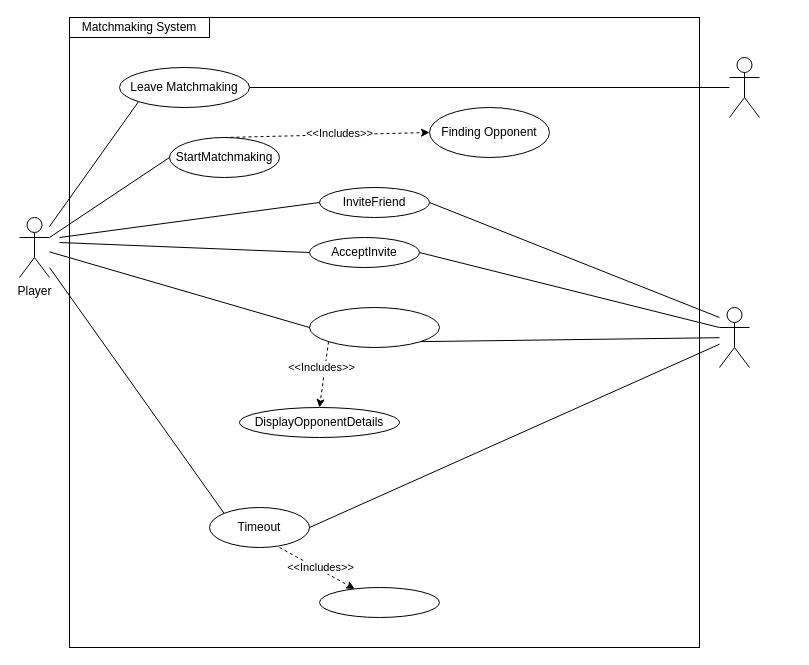
Some shapes in this 809 by 665 pixel diagram are drawn without their labels. Here are the shapes that lost their labels. From the top down, the centre of each, then its label:
pixel 744 87: Network Manager
pixel 374 327: Match Confirmation
pixel 734 337: System
pixel 379 602: ApplyPenalty
